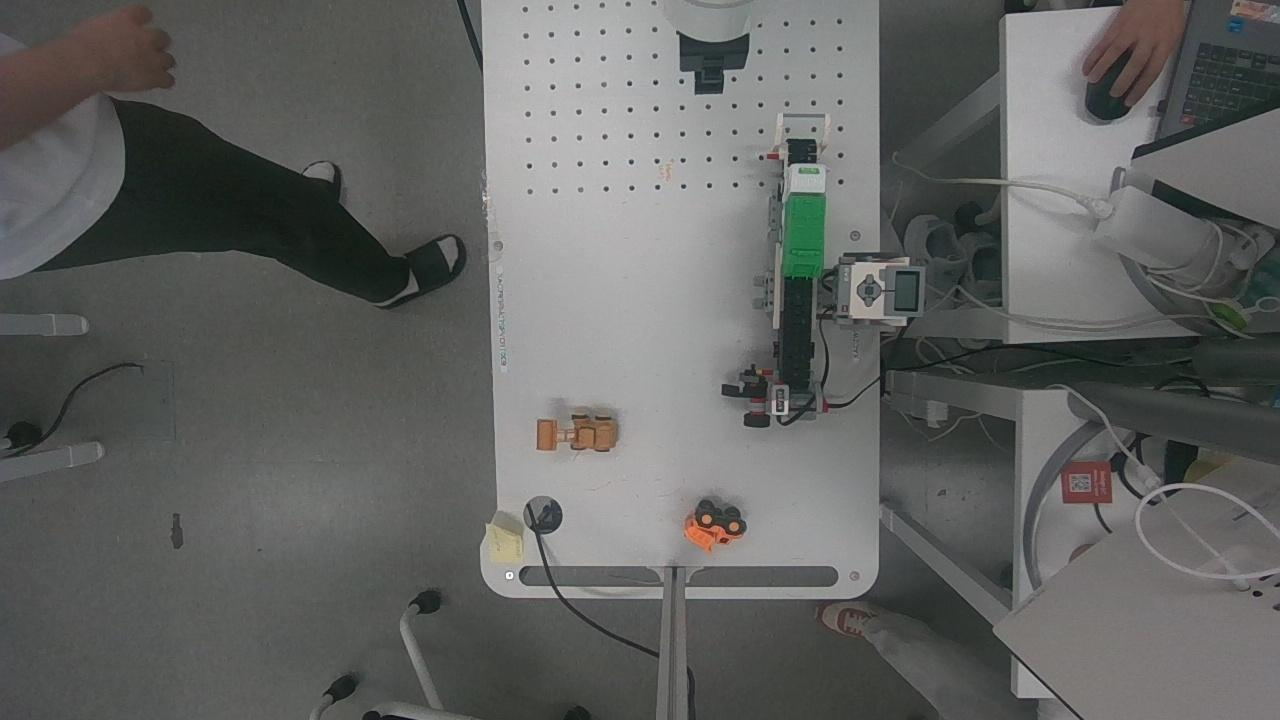green_car: (779, 158, 829, 284)
orange_car: (681, 489, 748, 550)
yellow_car: (531, 405, 623, 461)
